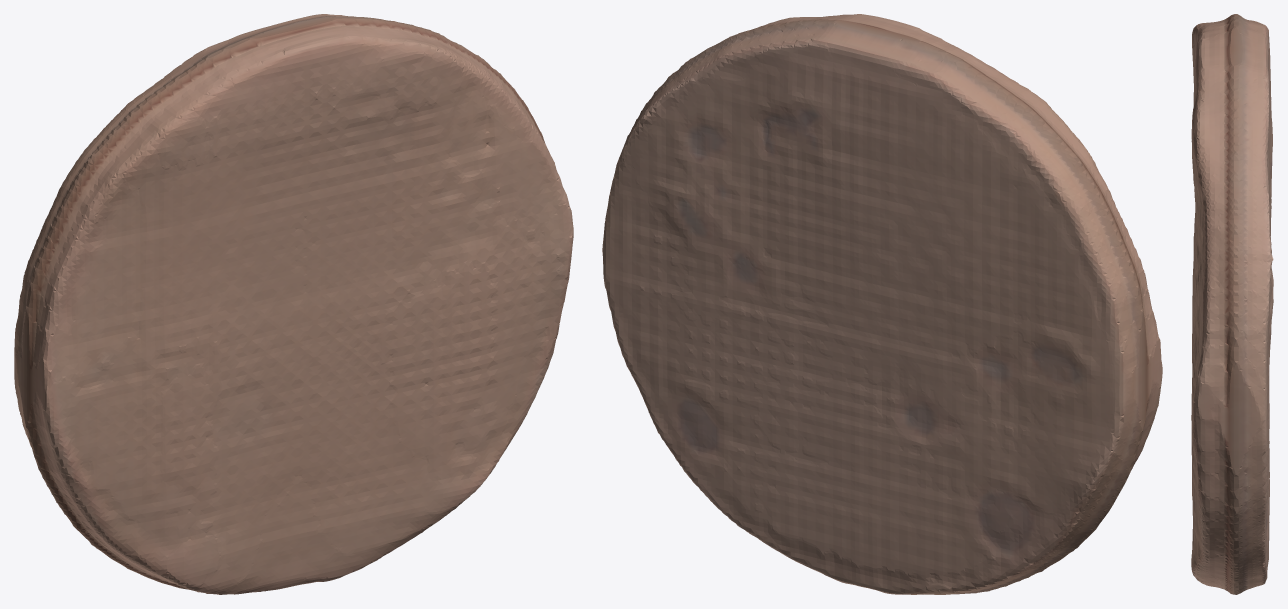
The model's file is beef.glb.
The picture shows the model from 3 angles, left to right: view 1: azimuth 30°, elevation 25°; view 2: azimuth 150°, elevation 25°; view 3: azimuth 270°, elevation 25°; orthographic projection. The views are drawn at different scales.
Visible parts, largest first — view 1: geometry_0; view 2: geometry_0; view 3: geometry_0.
Boxes of the visible parts, x1,y1,x2,y2 form: geometry_0: [14, 14, 573, 594]; geometry_0: [602, 14, 1162, 594]; geometry_0: [1191, 14, 1273, 594].
Bounding box in the file's own units: 1.97 × 1.97 × 0.2842.
